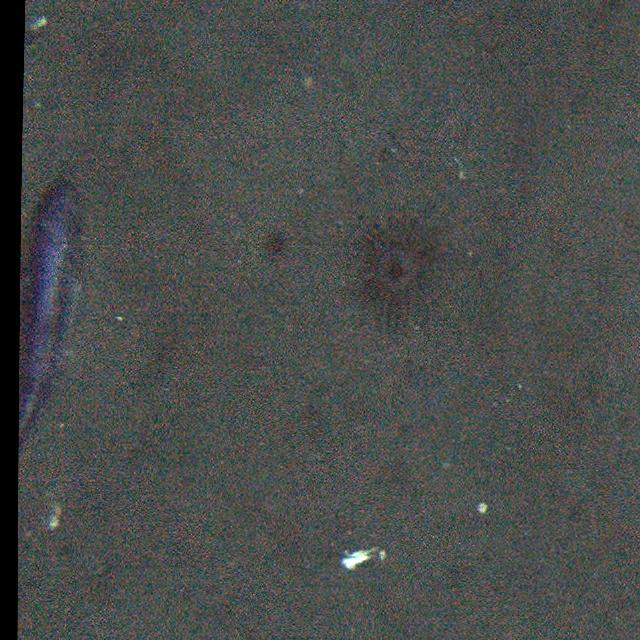roundfish: (24, 176, 88, 460)
